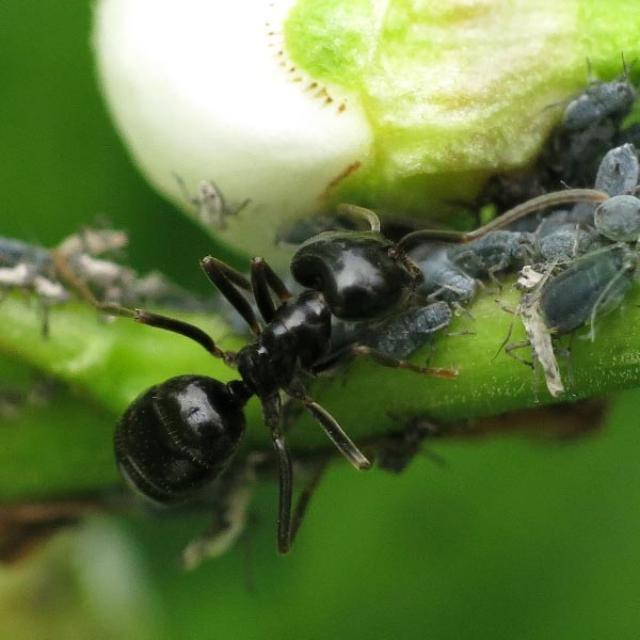Lasius: (148, 170, 430, 536)
